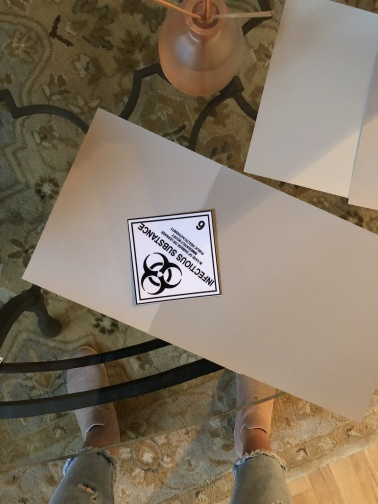InfectiousSubstance: (127, 210, 220, 303)
